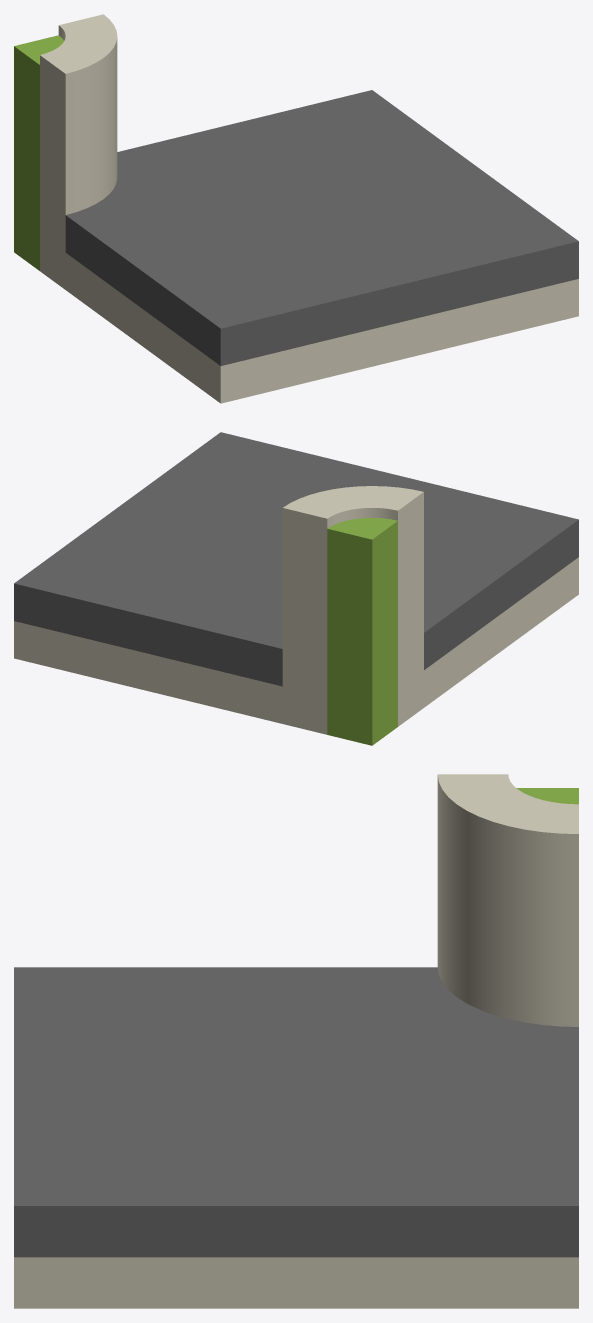
File: roadTile_047.fbx
The picture shows the model from 3 angles, top to bottom: view 1: azimuth 30°, elevation 25°; view 2: azimuth 150°, elevation 25°; view 3: azimuth 270°, elevation 25°; orthographic projection. The views are drawn at different scales.
Parts seen in each view (by area): view 1: roadTile_047; view 2: roadTile_047; view 3: roadTile_047.
Part boxes in pixels (left/top/right/bottom): roadTile_047: left=14, top=14, right=578, bottom=403; roadTile_047: left=14, top=432, right=578, bottom=745; roadTile_047: left=14, top=774, right=578, bottom=1308.
Bounding box in the file's own units: 118 × 68.11 × 118.
